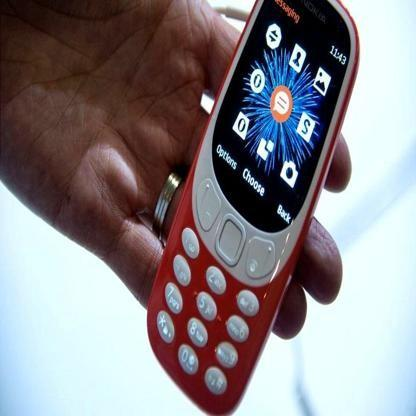not trash: (136, 0, 365, 409)
